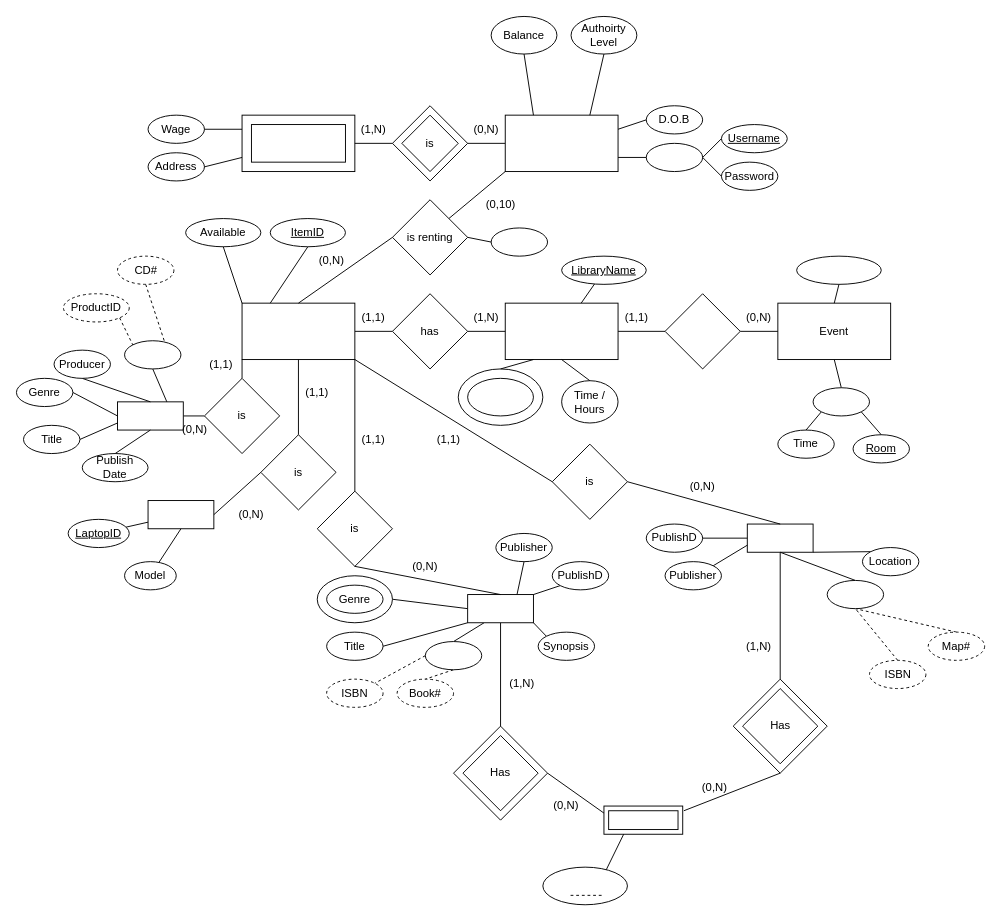
Image size: 1001x921. Some labels were removed from this diagram. Here are the shapes that lost their labels. From the top down, the centre of each, then its label:
(298,143): Employee
(561,143): User
(674,157): Login
(519,241): DueDate
(838,269): EventName
(298,331): Item
(561,331): Library
(702,331): Hosts
(152,354): CDID
(150,415): CD
(500,396): Closed Dates
(841,401): RoomRes
(180,514): Laptop
(779,537): Map
(500,608): Book
(855,594): MapID
(453,655): BOOKID
(643,820): Author
(584,885): Name
